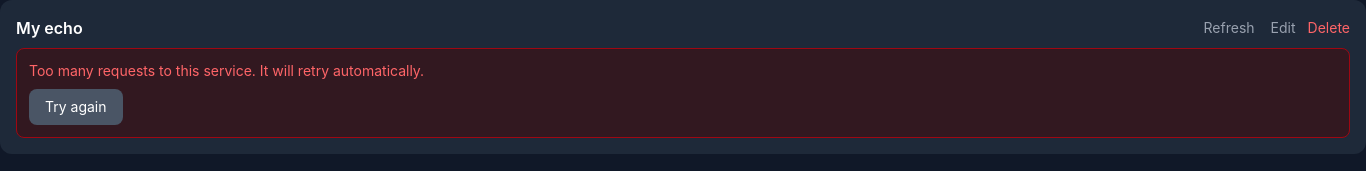
it: a first load that fails › rate_limited: message and Try again
Check: the message shows "Too many requests to this service. It will retry automatically.", box [29,62,424,79]
Step 1. Click the button "Try again" → click(76, 107), box [29,89,122,125]
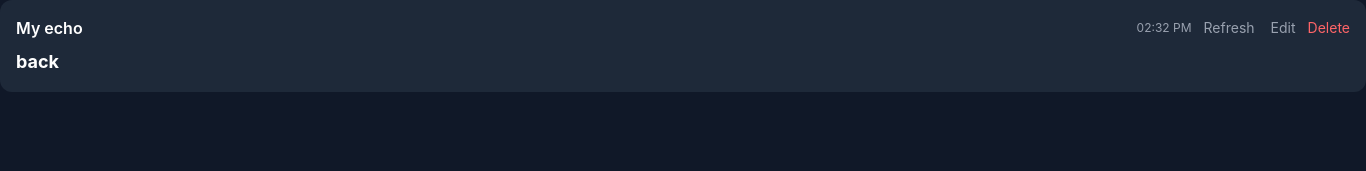
Check: the text "back" is shown, box [16,51,59,72]
Check: the message "Too many requests to this service. It will retry automatically. Try again" is gone
